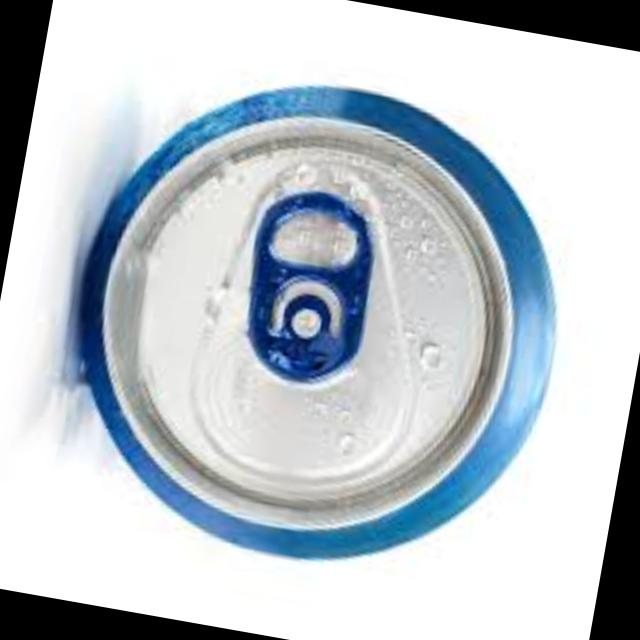metal: (87, 92, 556, 562)
